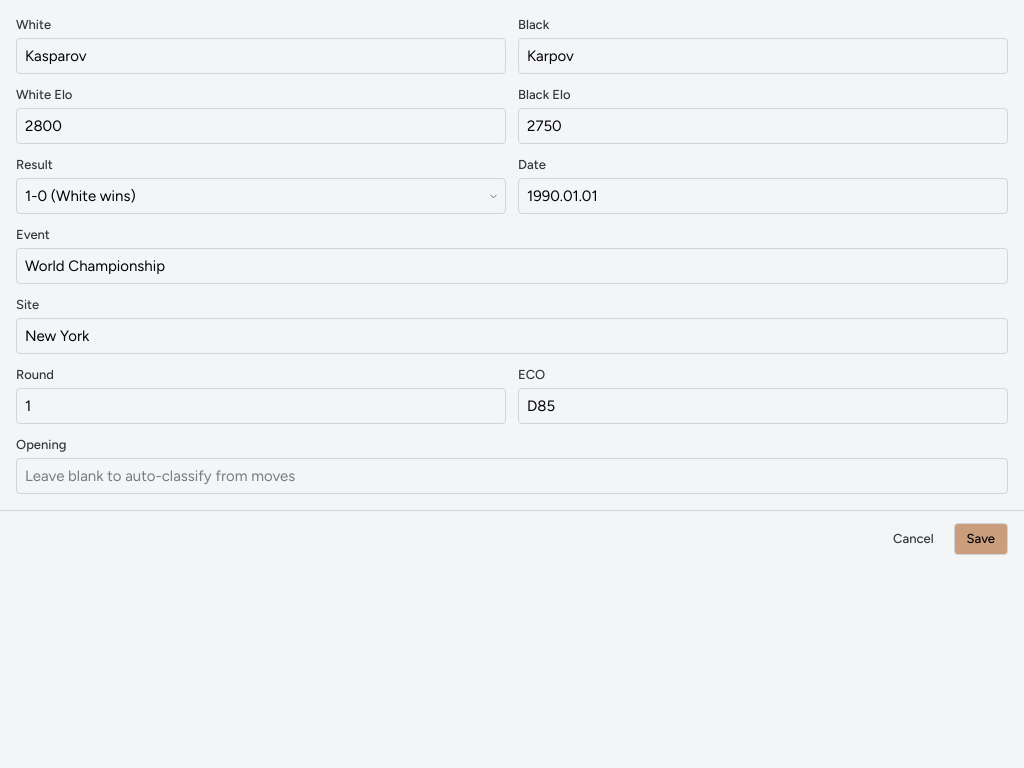
EditMetadataDialog › shows error message on failure
What coordinates should you click on to do the following:
click the button "Save"
I would click on:
 (981, 539)
Its box is [954,523,1008,555].
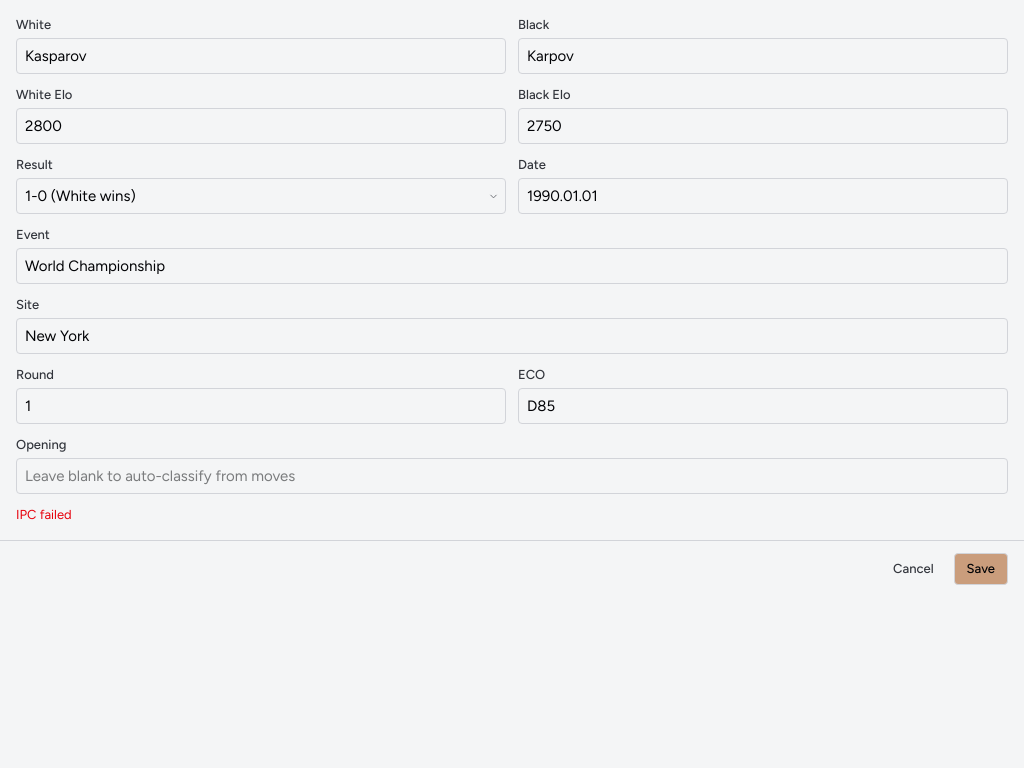
Now the text "IPC failed" is shown, box [16,507,72,522]
